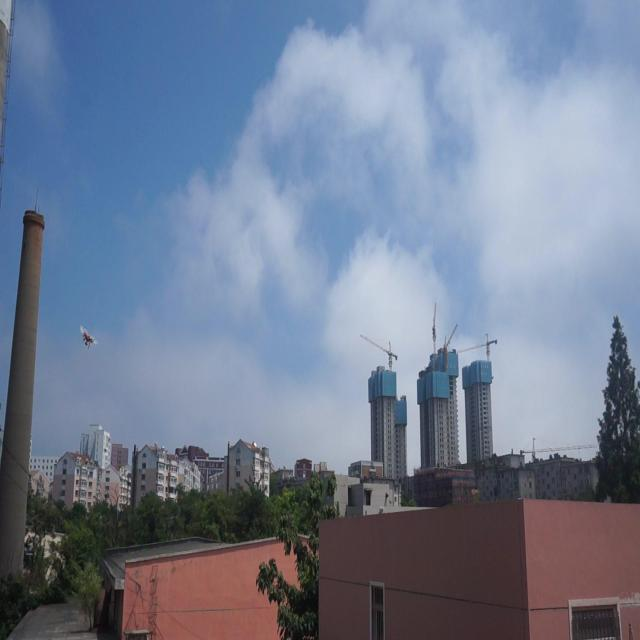drone: (78, 322, 100, 356)
